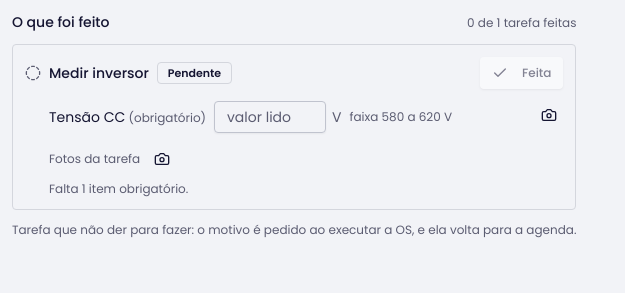
OQueFoiFeito: leituras › fora da faixa: marca, pede a observação e segura a tarefa até explicar
Type "650" into the field labelled "Tensão CC (obrigatório)". click: (270, 117)
box: [214,101,326,133]
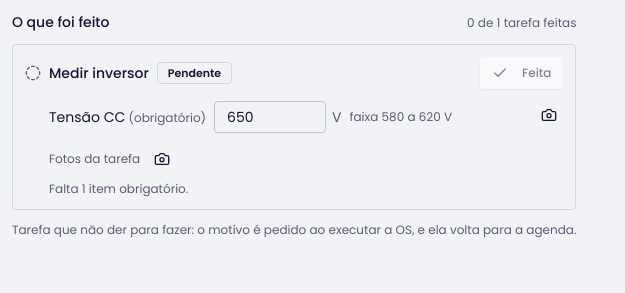
Leave the field labelled "Tensão CC (obrigatório)", box [214,101,326,133]
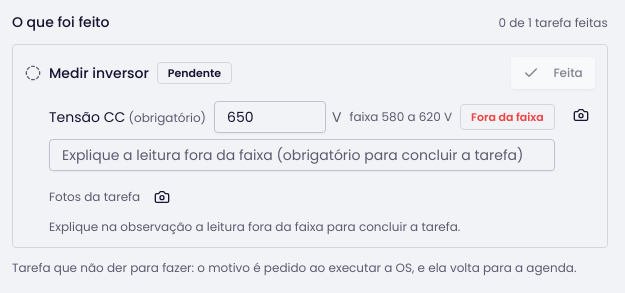
Check: the button named "Marcar \"Medir inversor\" como feita" is disabled, box [511,57,595,89]
Check: the text "Fora da faixa" is shown, box [460,104,555,130]
Check: the text "Explique na observação a leitura fora da faixa" is shown, box [49,218,460,235]
Replace the text in the field named "Observação da leitura fora da faixa" with "String 3 com conector oxidado". click: (302, 155)
box: [49,139,555,171]
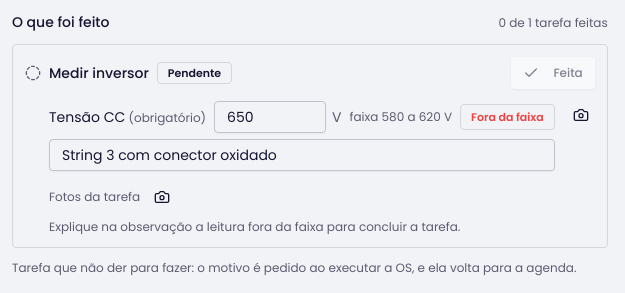
Leave the field named "Observação da leitura fora da faixa", box [49,139,555,171]
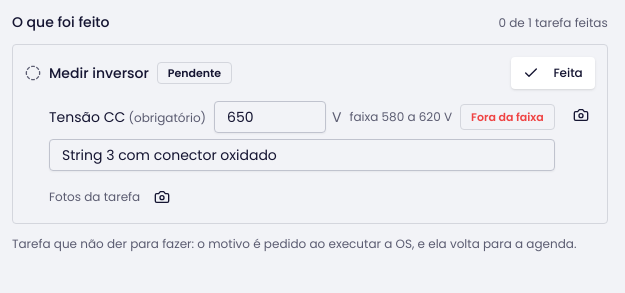
Check: the button named "Marcar \"Medir inversor\" como feita" is enabled, box [511,57,595,89]
